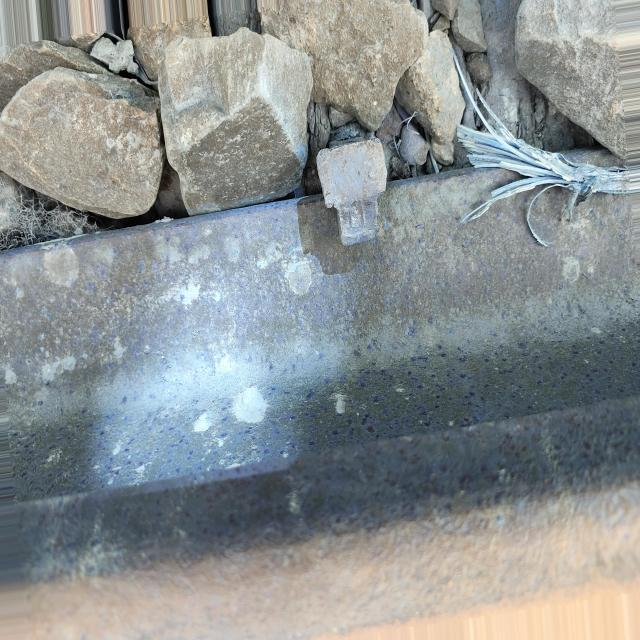Good Fasteners: (316, 138, 387, 245)
